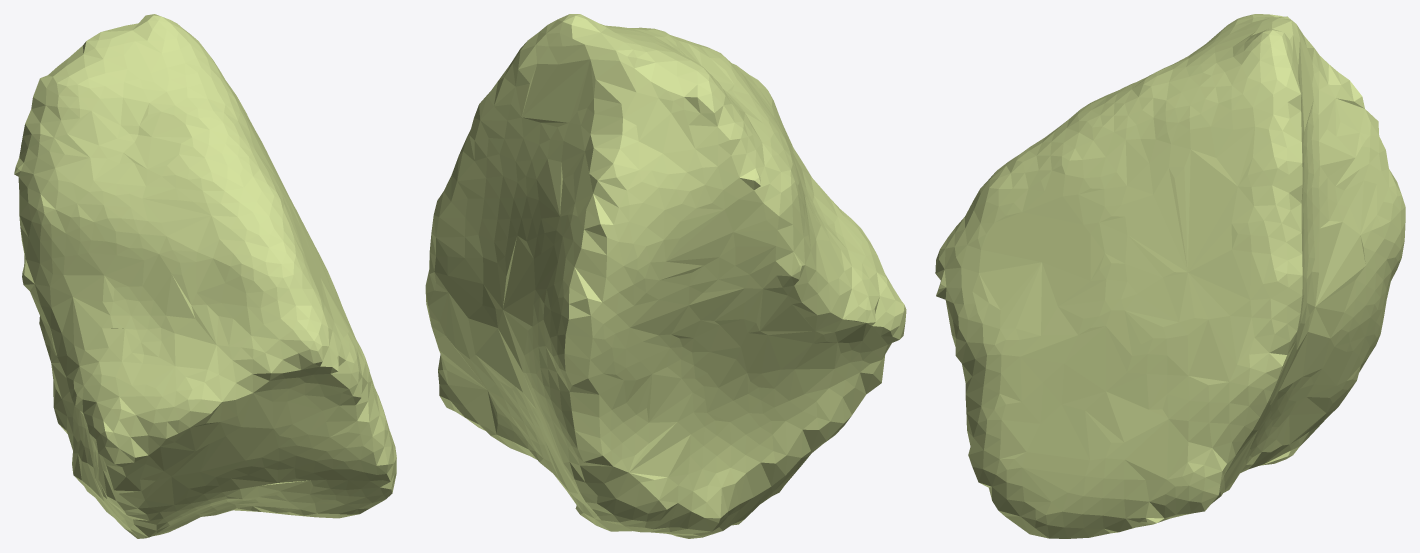
File: Model_87_RH__Auditory_cortex__rostrotemporal_part_(AuRT).obj
The picture shows the model from 3 angles, left to right: view 1: azimuth 30°, elevation 25°; view 2: azimuth 150°, elevation 25°; view 3: azimuth 270°, elevation 25°; orthographic projection. The views are drawn at different scales.
Size of the model in its own units: 1.82 by 2.53 by 2.24.
